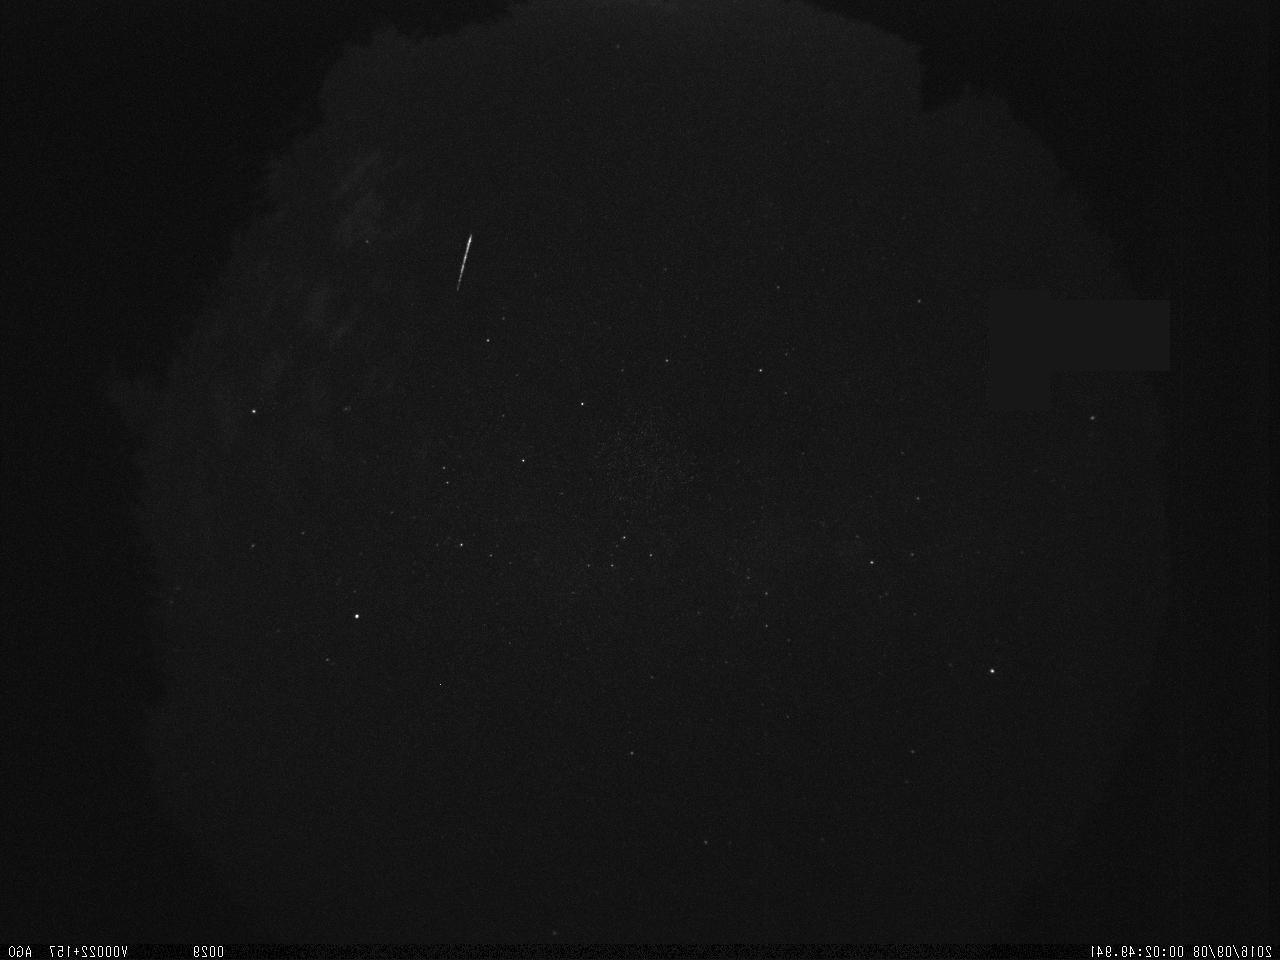meteor: (445, 222, 481, 292)
